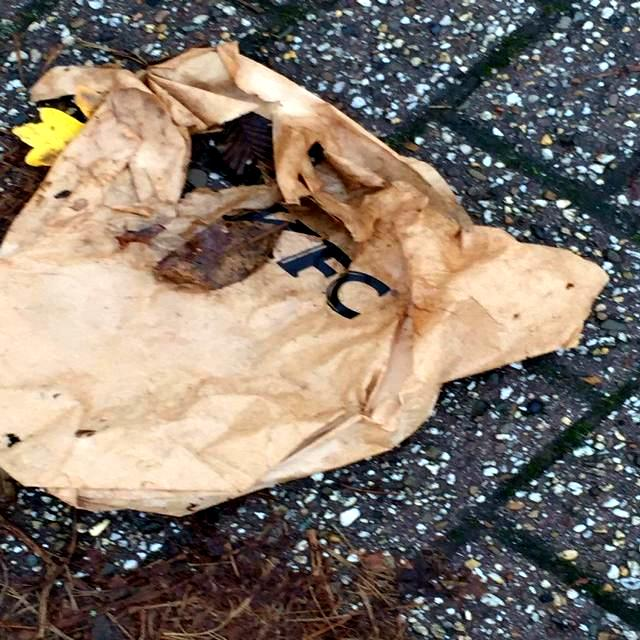Paper: (0, 42, 612, 521)
